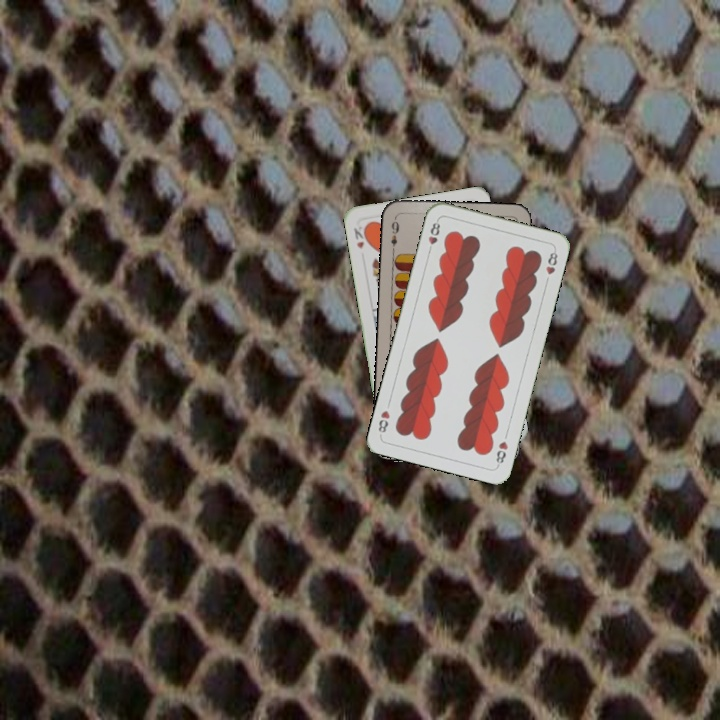E9: (387, 214, 402, 254)
H8: (424, 216, 443, 256), (492, 437, 510, 469)
HK: (350, 221, 371, 252)
